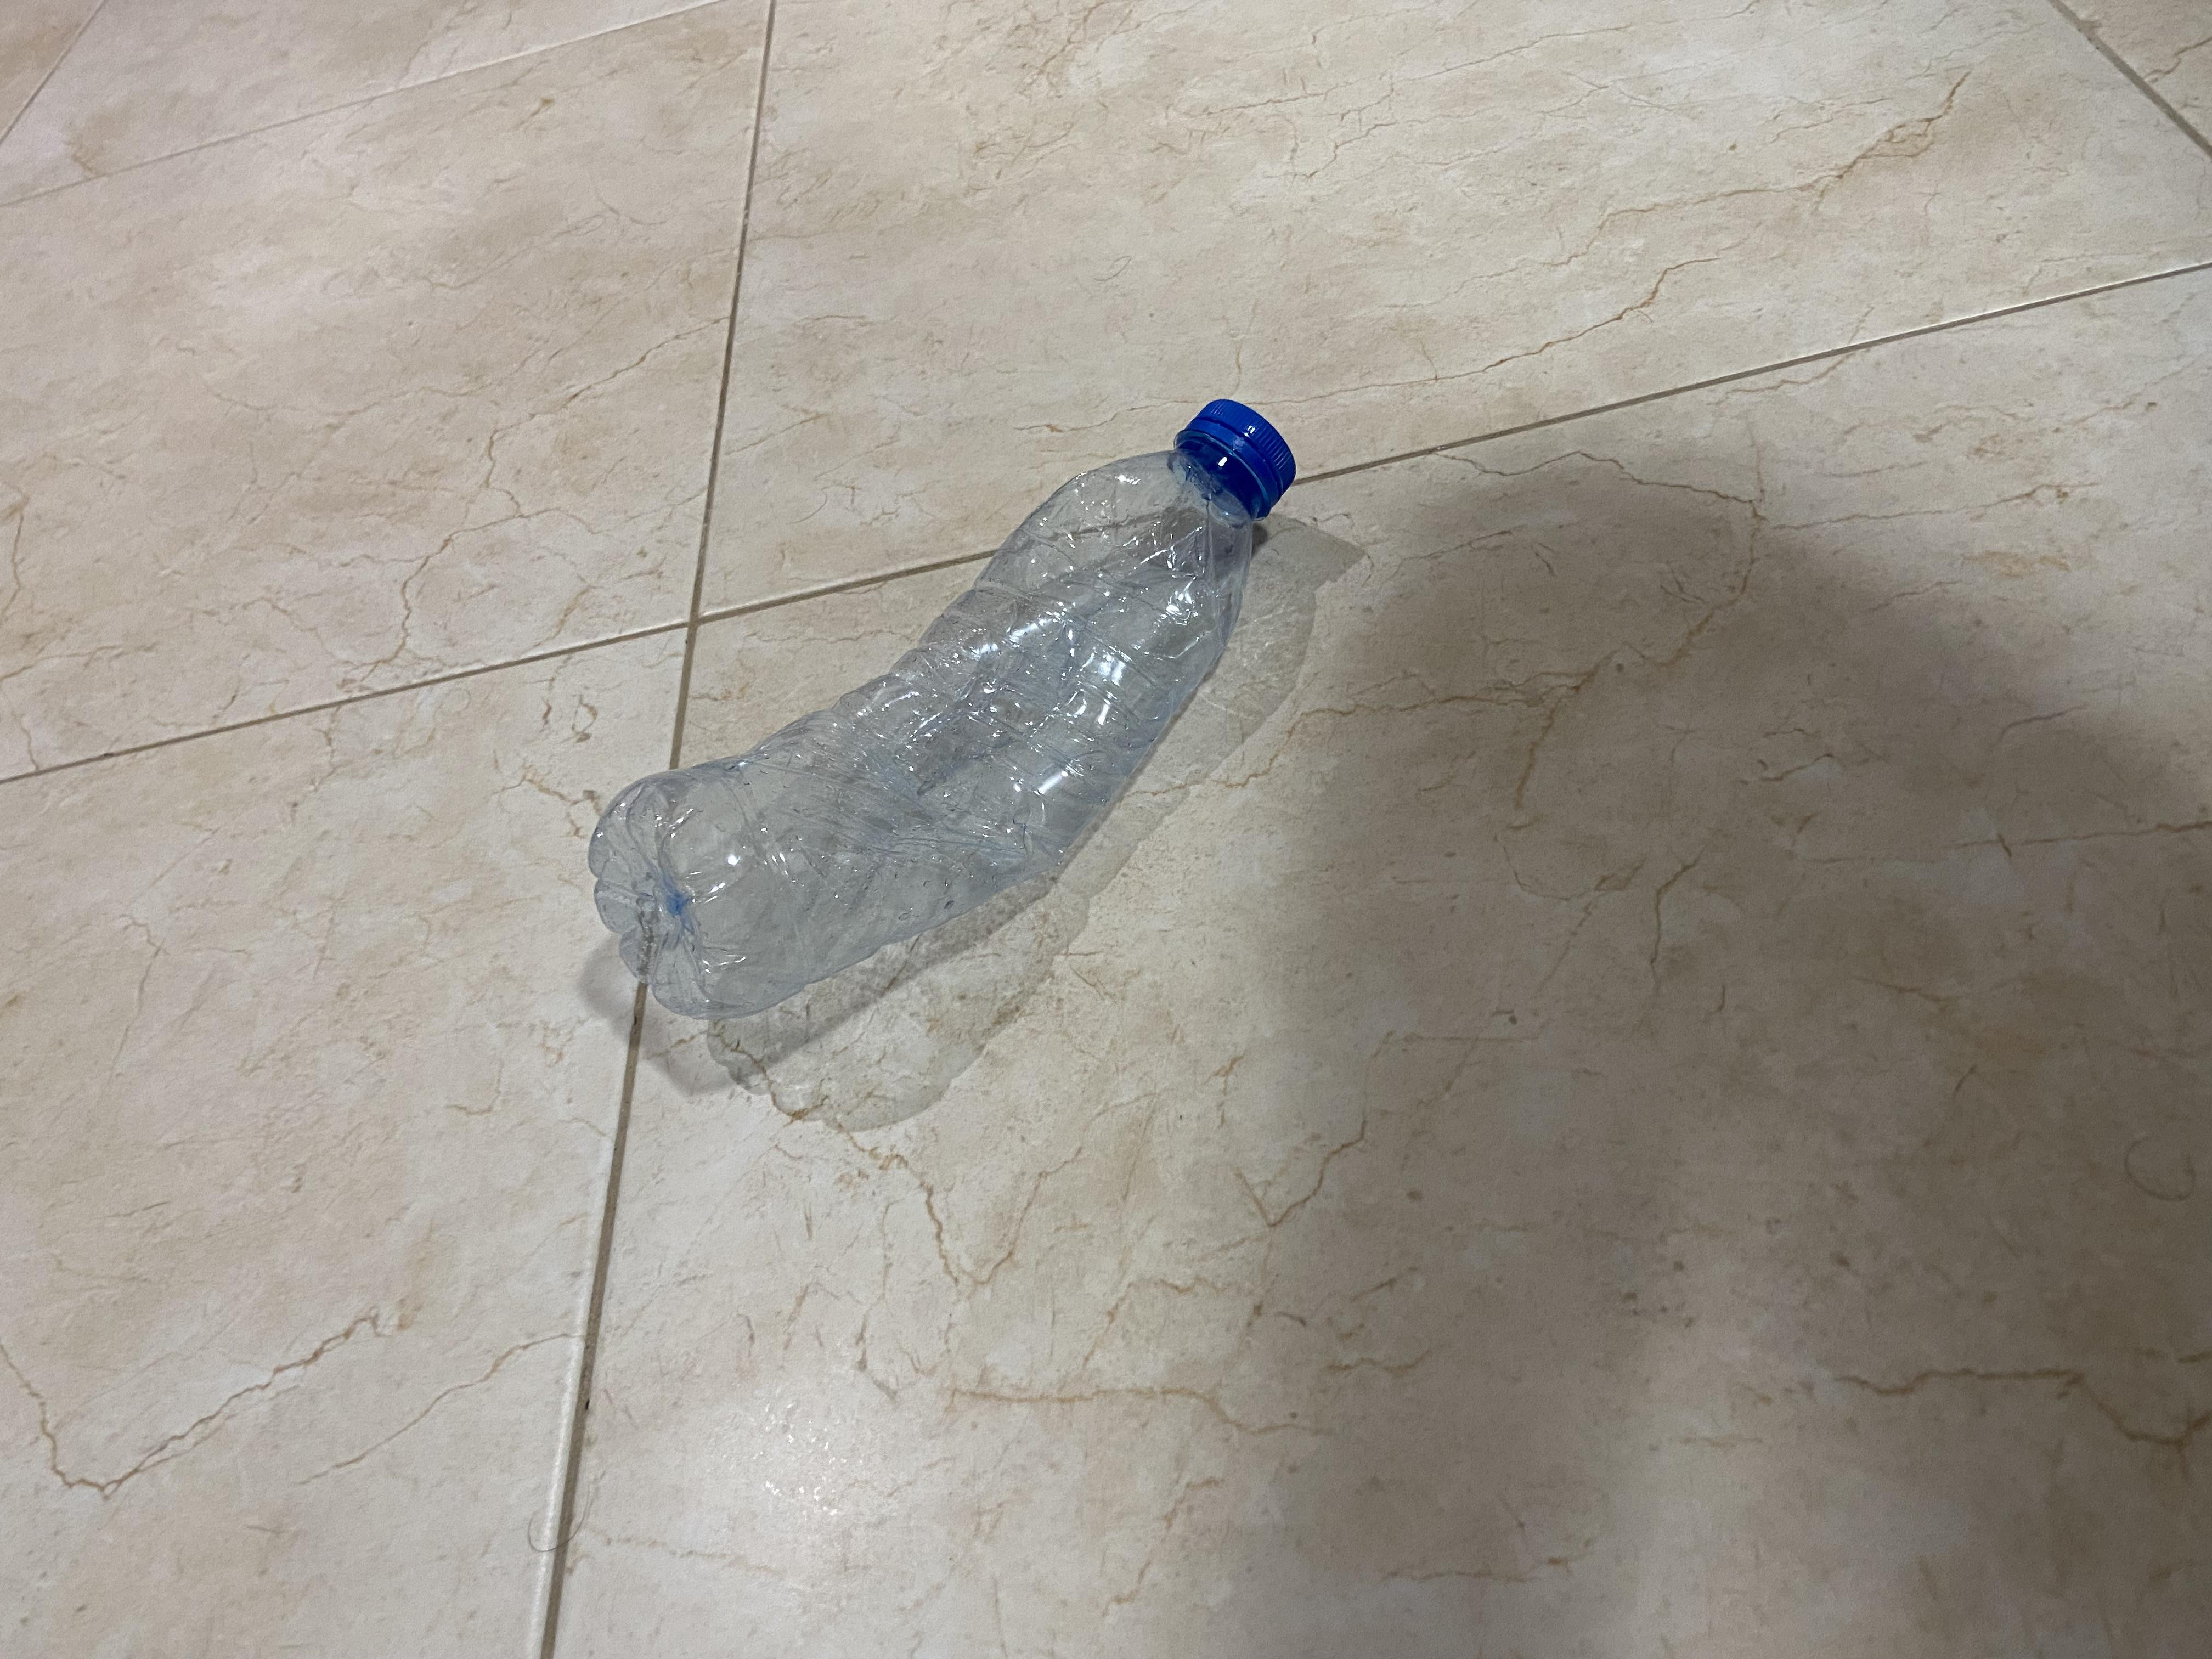bottle: (583, 376, 1339, 1051)
